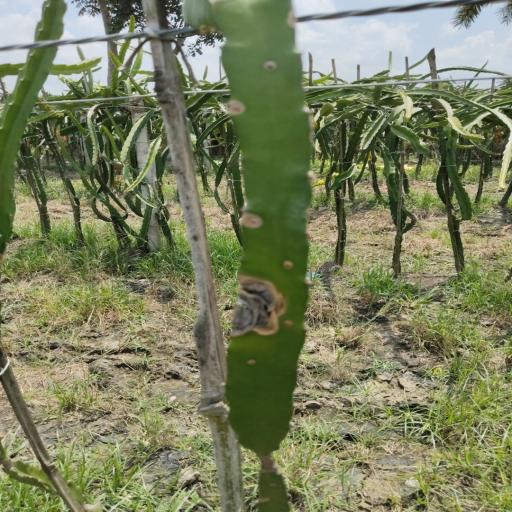stemcanker: (250, 58, 294, 81), (234, 350, 266, 370), (271, 259, 299, 276), (279, 316, 304, 333), (262, 60, 285, 76), (281, 315, 300, 333), (274, 260, 302, 271), (244, 357, 266, 370), (266, 478, 283, 494), (280, 258, 297, 272), (246, 357, 260, 371), (282, 318, 296, 328)
